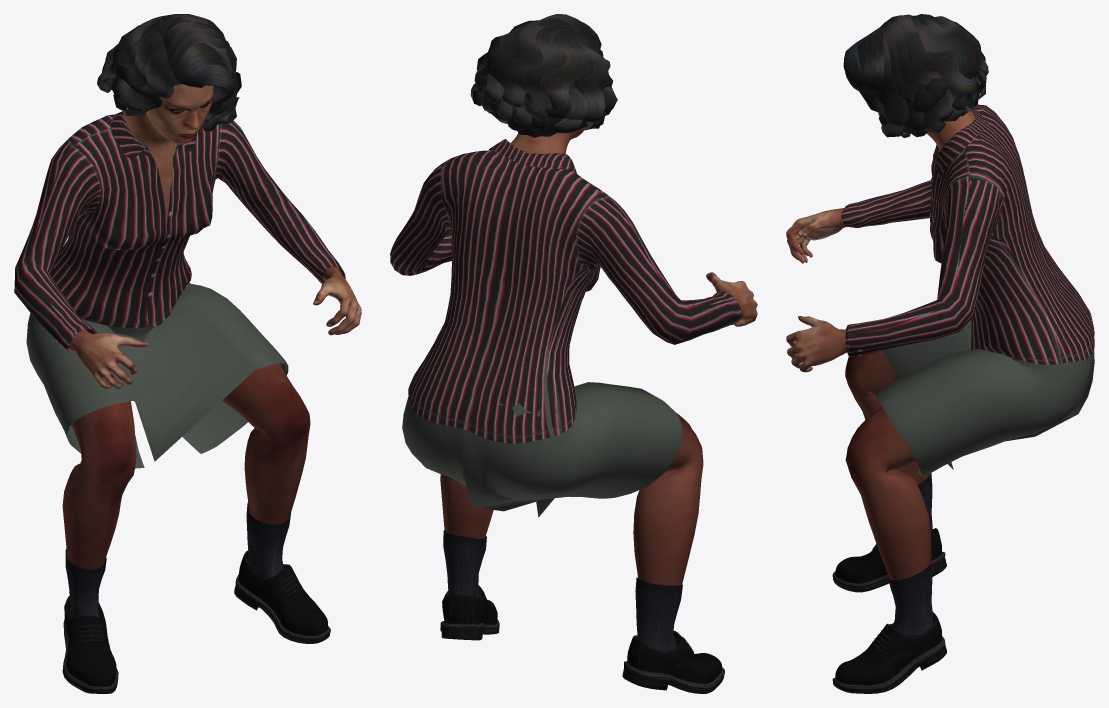
Rendered from donna-03.glb.
3 views of the same model, side by side, from view 1: azimuth 30°, elevation 25°; view 2: azimuth 150°, elevation 25°; view 3: azimuth 270°, elevation 25° (orthographic). The views are drawn at different scales.
Parts seen in each view (by area): view 1: Human.female_elegantsuit01, Human, Human.shoes03, Human.elvs_wavy_bob; view 2: Human.female_elegantsuit01, Human.elvs_wavy_bob, Human, Human.shoes03; view 3: Human.female_elegantsuit01, Human, Human.elvs_wavy_bob, Human.shoes03.
Part boxes in pixels (box(x1,y1,x2,y2)): Human.female_elegantsuit01: box(14, 108, 345, 468); Human: box(62, 84, 361, 569); Human.shoes03: box(62, 502, 330, 693); Human.elvs_wavy_bob: box(97, 14, 241, 131); Human.female_elegantsuit01: box(390, 139, 741, 517); Human.elvs_wavy_bob: box(470, 14, 617, 137); Human: box(440, 128, 757, 585); Human.shoes03: box(440, 530, 724, 693); Human.female_elegantsuit01: box(841, 104, 1094, 476); Human: box(786, 111, 977, 580); Human.elvs_wavy_bob: box(843, 14, 988, 137); Human.shoes03: box(832, 473, 946, 693).
Bounding box in the file's own units: 0.6435 × 1.34 × 0.6026.
Materials: 12 (12 with a texture image).
